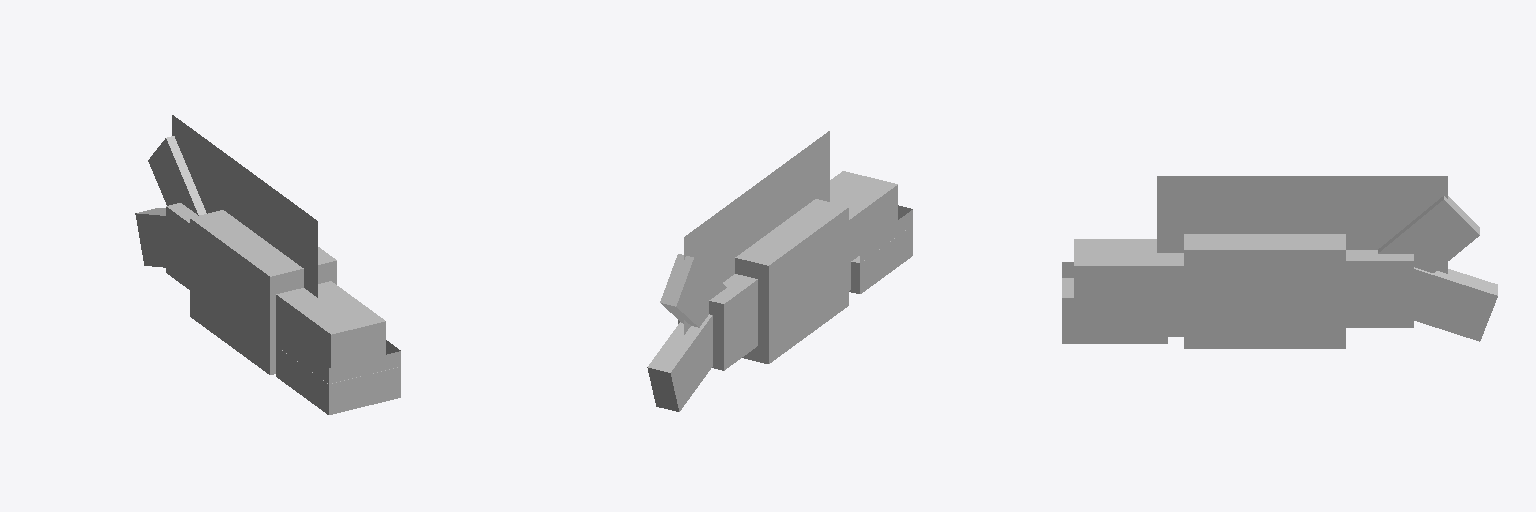
Rendered from abtu.obj.
3 renders of one model, left to right at view 1: azimuth 30°, elevation 25°; view 2: azimuth 150°, elevation 25°; view 3: azimuth 270°, elevation 25°, orthographic.
Parts seen in each view (by area): view 1: Body, Head, Mouth; view 2: Body, Head, Mouth; view 3: Body, Head, Mouth.
Part boxes in pixels (x1,y1,x2,y2): Body: (135,115,336,374); Head: (276,281,385,368); Mouth: (276,330,400,414); Body: (647,131,848,411); Head: (830,171,897,290); Mouth: (849,205,912,293); Body: (1157,176,1497,348); Head: (1074,239,1183,336); Mouth: (1062,262,1167,343).
Bounding box in the file's own units: 0.6276 × 1.32 × 3.26.